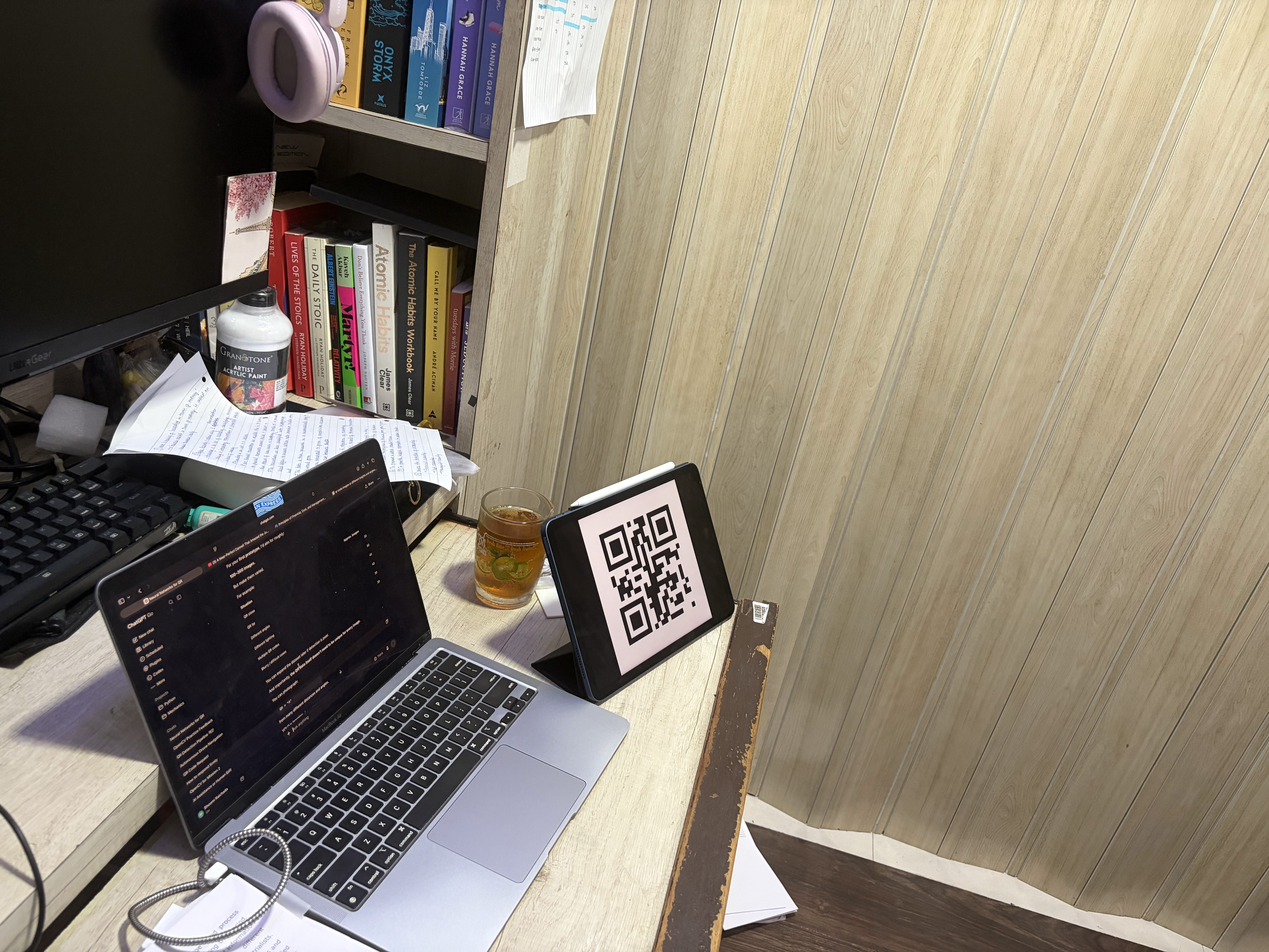QR: (569, 512, 764, 652)
